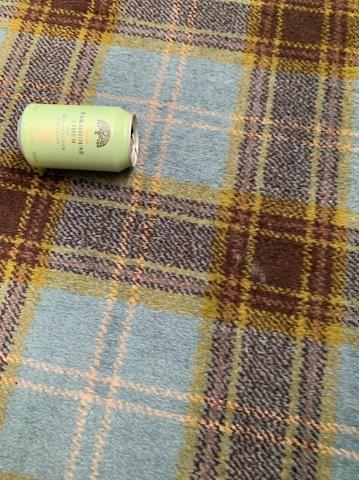kaleng: (18, 104, 137, 172)
